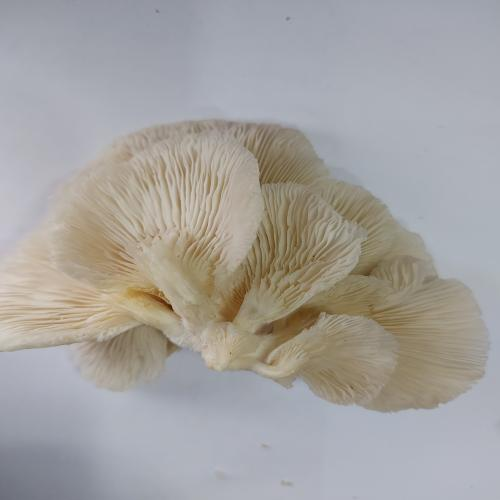Oyster Mushroom: (1, 118, 491, 413)
